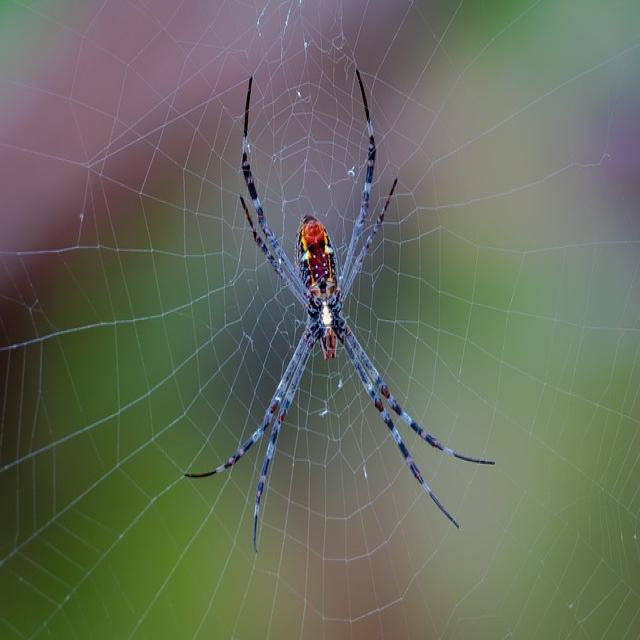spyder: (186, 71, 492, 548)
